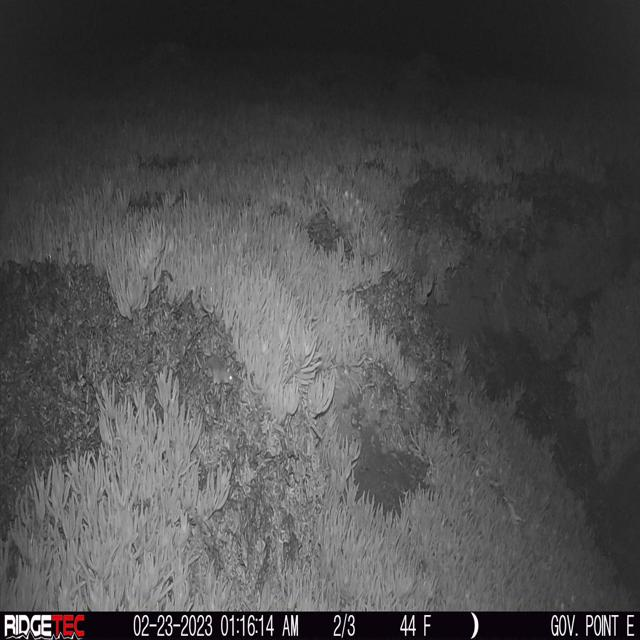rodent: (205, 353, 234, 385)
